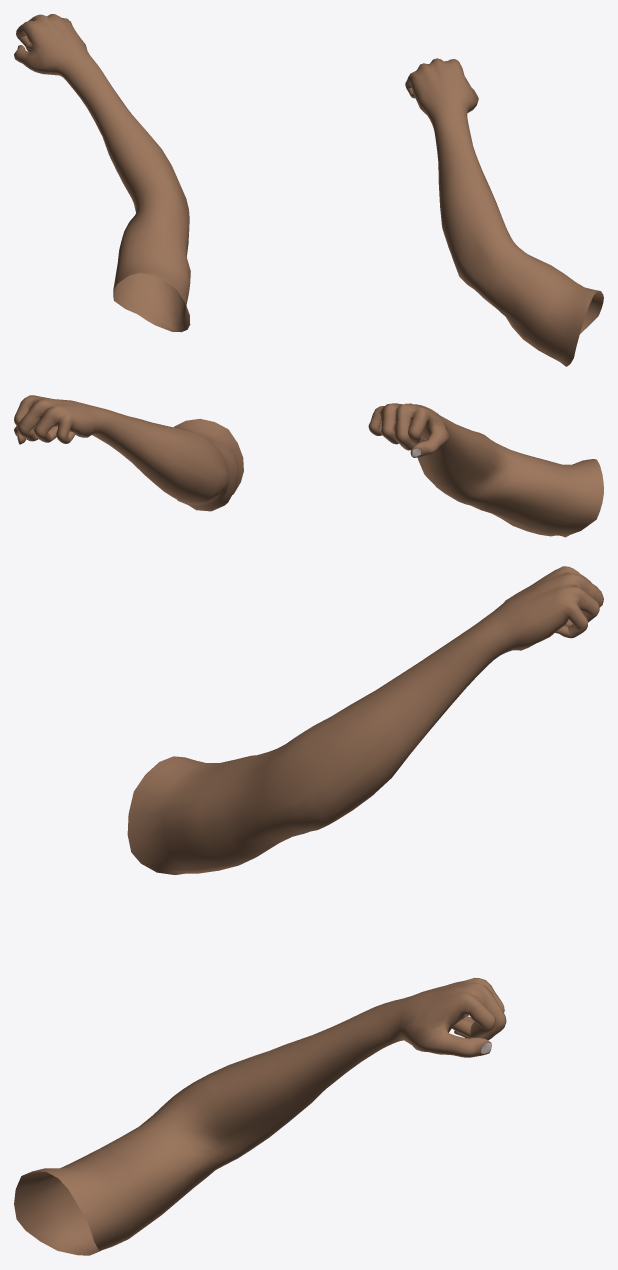
Rendered from hands.obj.
The picture shows the model from 3 angles, top to bottom: view 1: azimuth 30°, elevation 25°; view 2: azimuth 150°, elevation 25°; view 3: azimuth 270°, elevation 25°; orthographic projection. The views are drawn at different scales.
Visible parts, largest first — view 1: Object_7; view 2: Object_7; view 3: Object_7.
Part boxes in pixels (x1,y1,x2,y2): Object_7: (14,14,603,366); Object_7: (14,395,603,537); Object_7: (14,566,603,1255).
Bounding box in the file's own units: 0.5365 × 0.3481 × 0.427.
